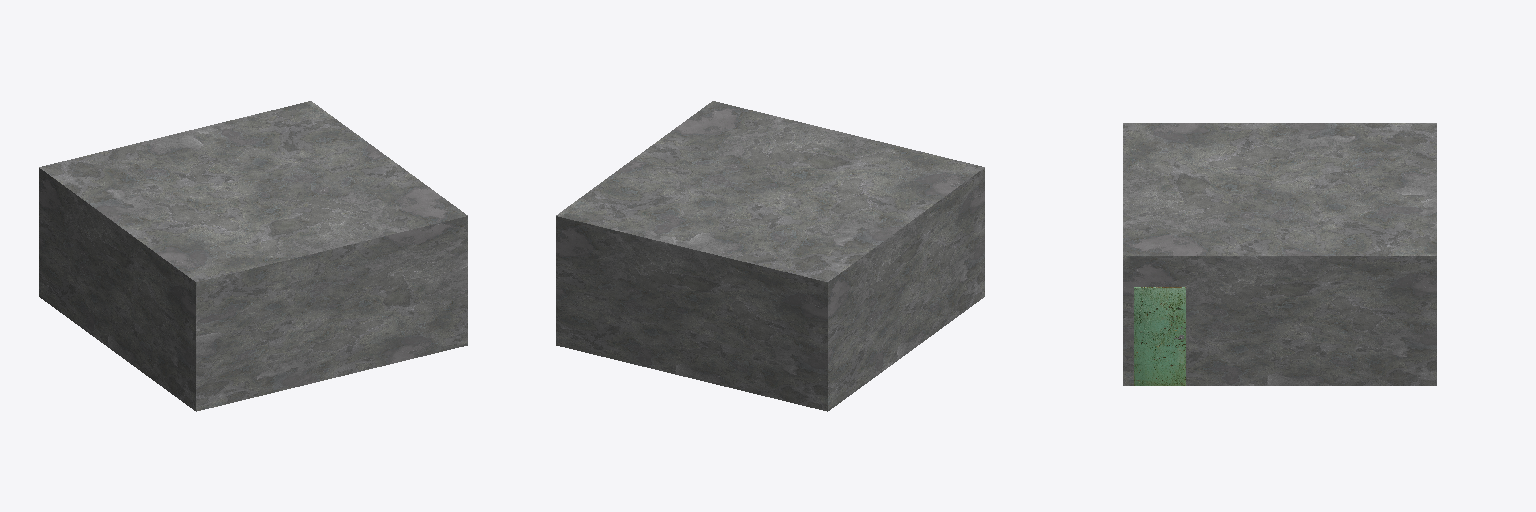
3 views of the same model, side by side, from view 1: azimuth 30°, elevation 25°; view 2: azimuth 150°, elevation 25°; view 3: azimuth 270°, elevation 25° (orthographic).
Parts seen in each view (by area): view 1: Cube; view 2: Cube; view 3: Cube, vrata_Cube.001.
Boxes of the visible parts, x1,y1,x2,y2 form: Cube: [39, 101, 467, 411]; Cube: [556, 101, 984, 411]; Cube: [1123, 123, 1436, 385]; vrata_Cube.001: [1134, 287, 1185, 385].
Bounding box in the file's own units: 5.83 × 2.61 × 5.73.
Materials: 7 (5 with a texture image).